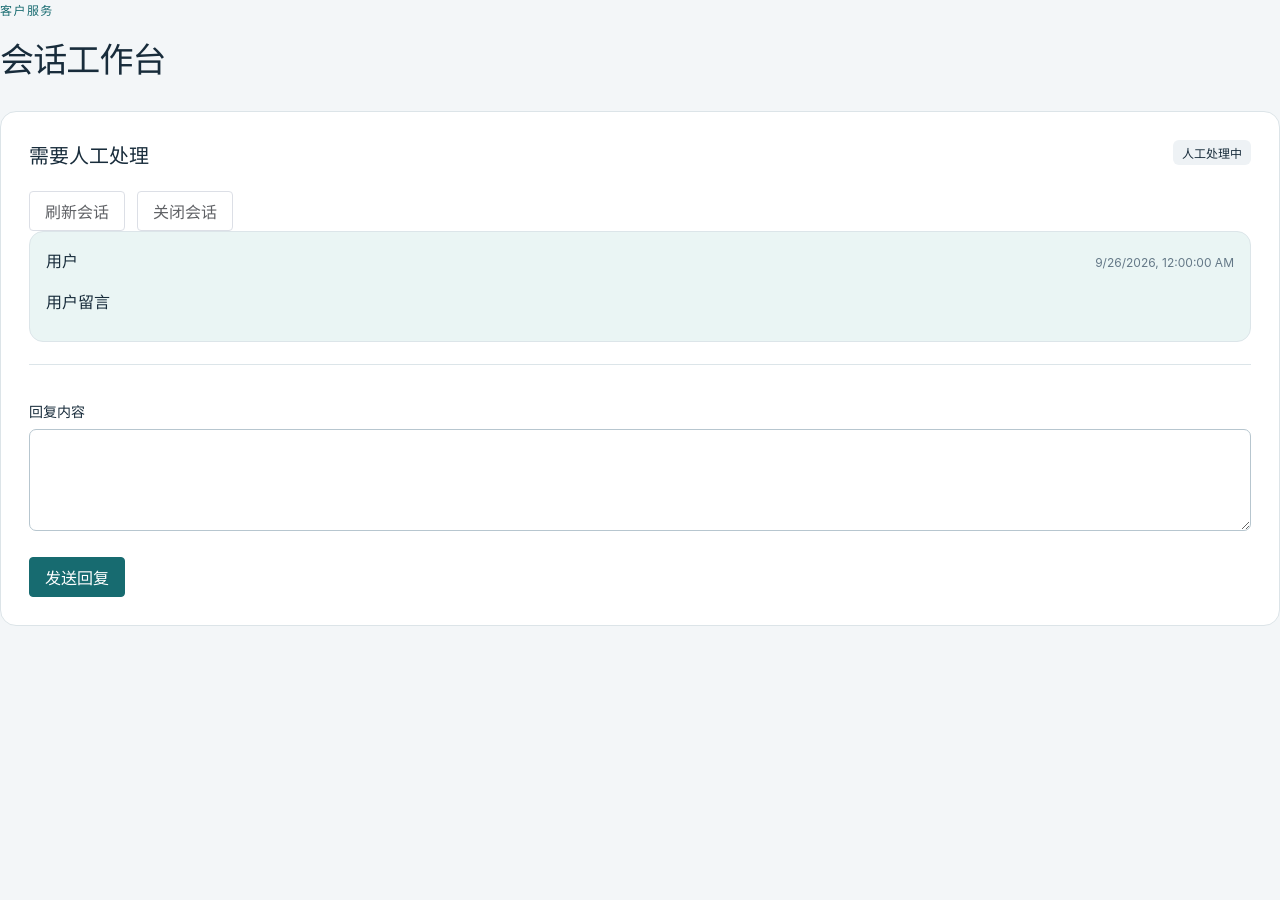
it: keeps loaded older messages after polling current history
The image size is (1280, 900).
Click the button "刷新会话" at (77, 211), box [29,191,125,231]
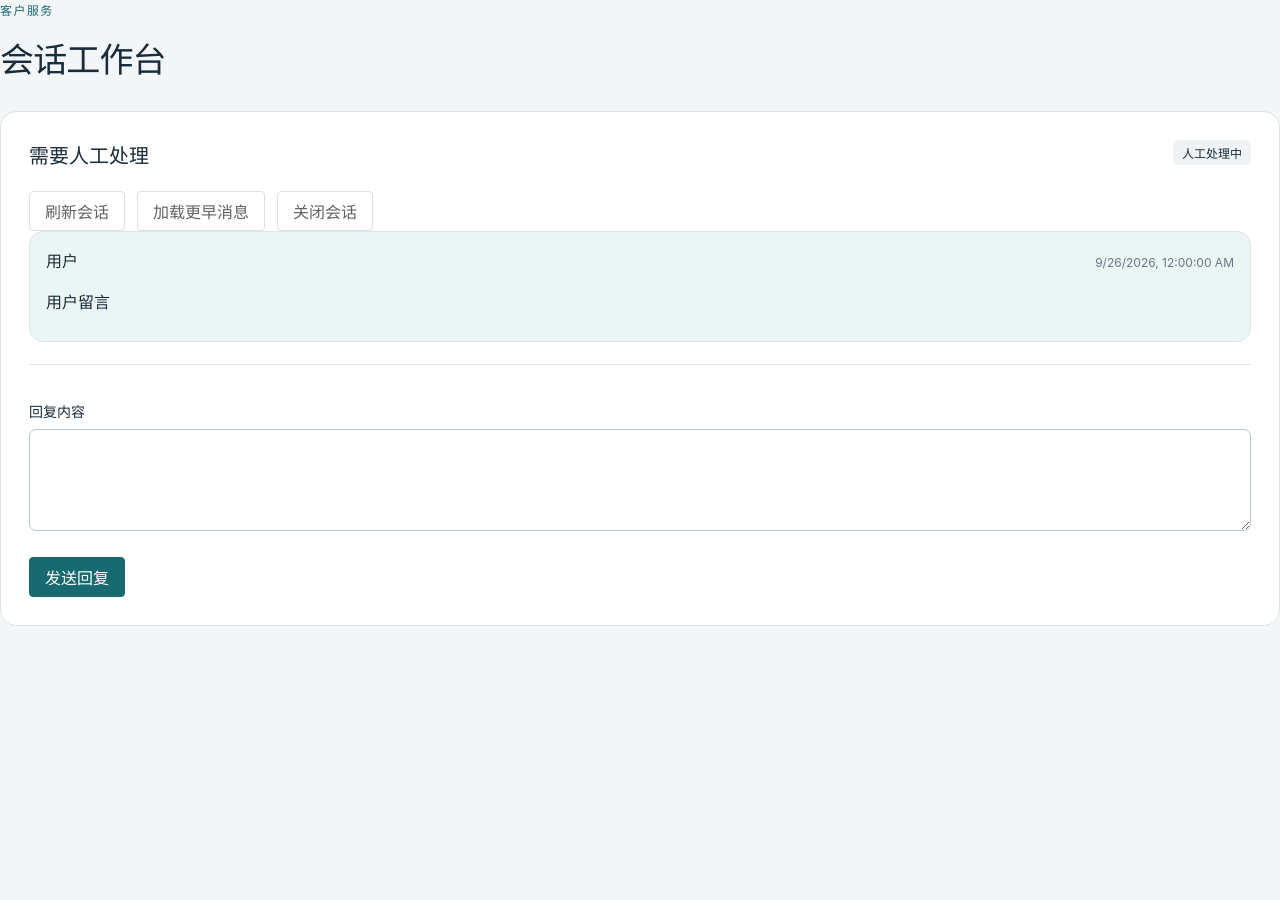
Click the button "加载更早消息" at (201, 211), box [137,191,265,231]
Wait 3000 ms
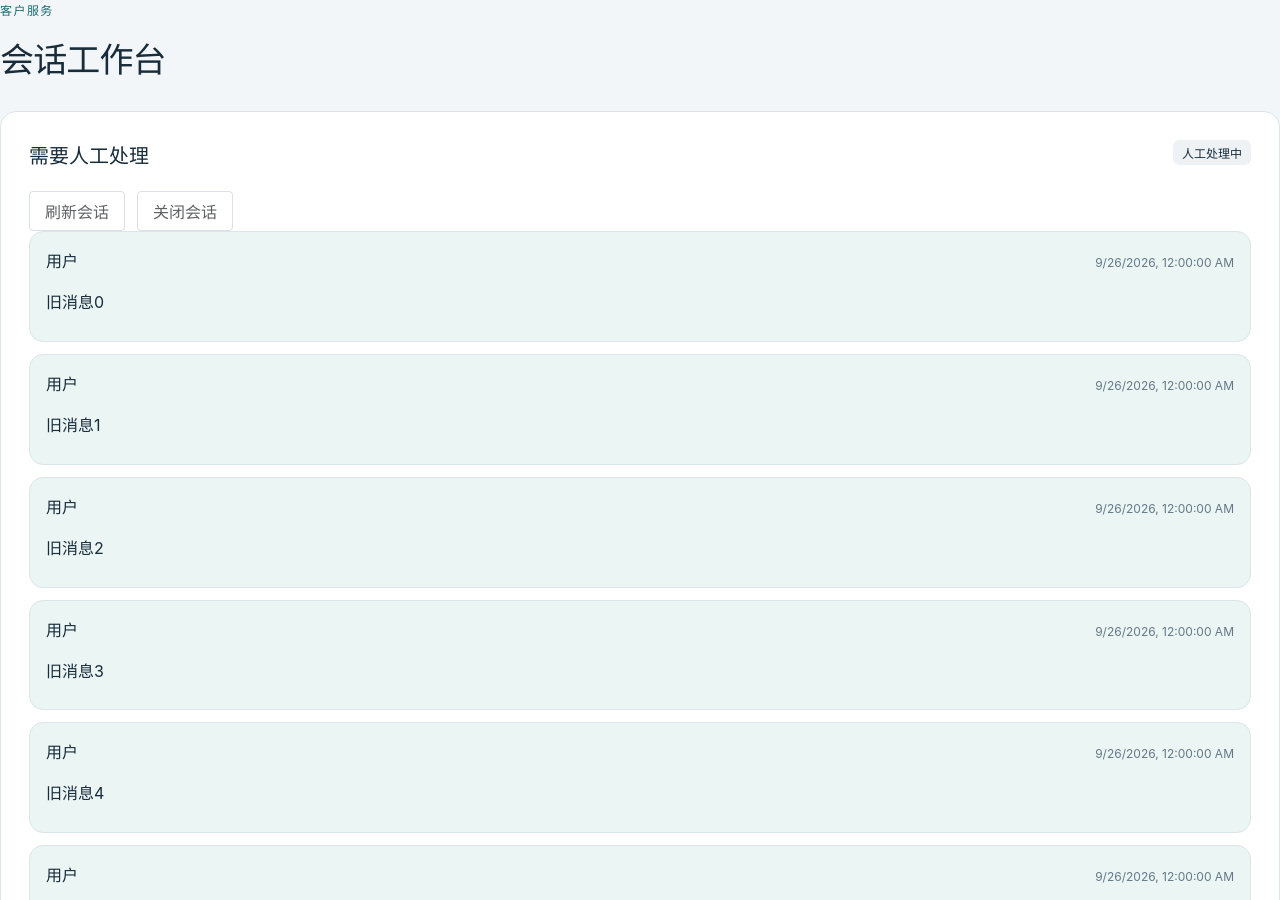
Now the number of elements with class "message" is 51
